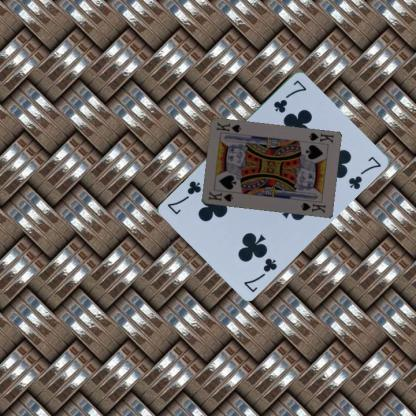7c: (270, 77, 308, 114), (241, 255, 278, 293)
Ks: (306, 130, 335, 144), (206, 189, 234, 203)
